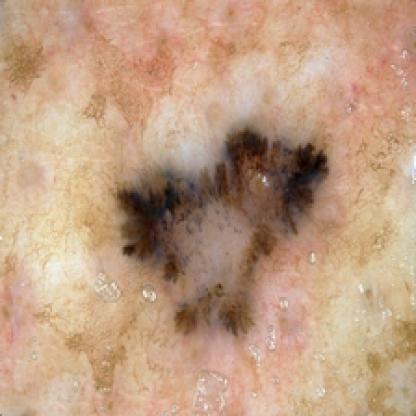malignant: (106, 117, 332, 331)
